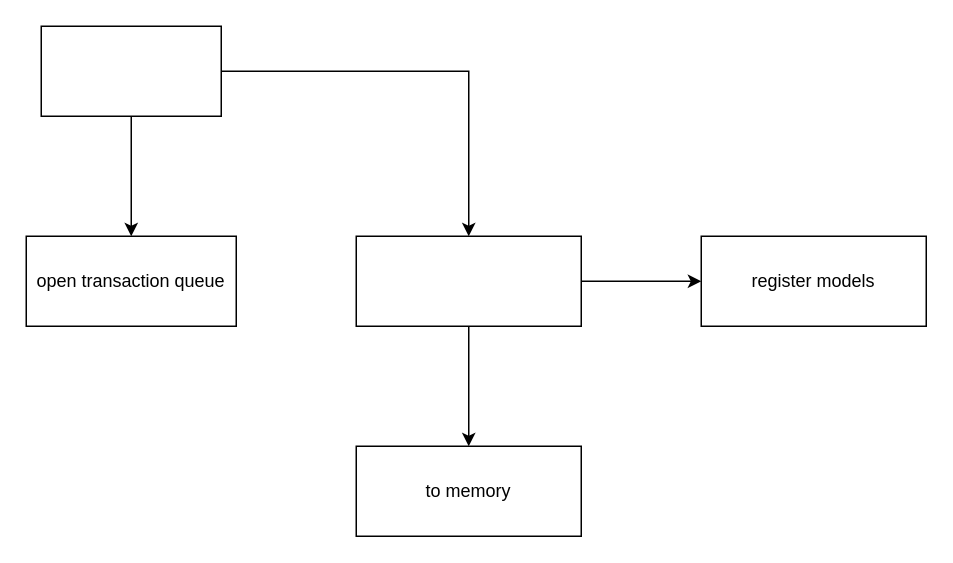
Some shapes in this 953 by 563 pixel diagram are drawn without their labels. The centre of each missing label's shape, as x and y in pixels:
"init" goes at [130,70].
"load local data to cache" goes at [468,280].
